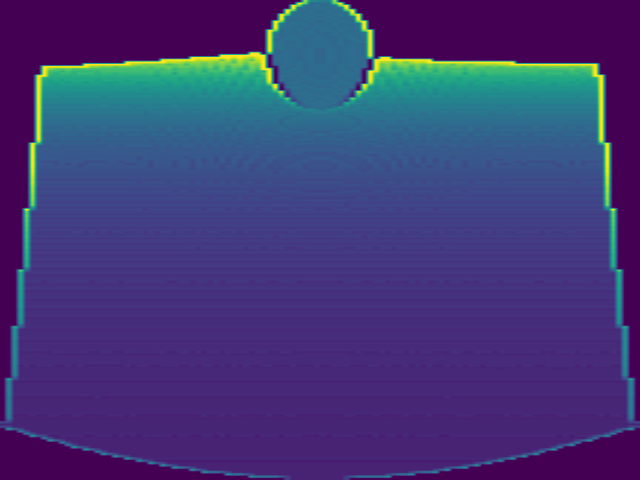sphere: (263, 2, 374, 113)
